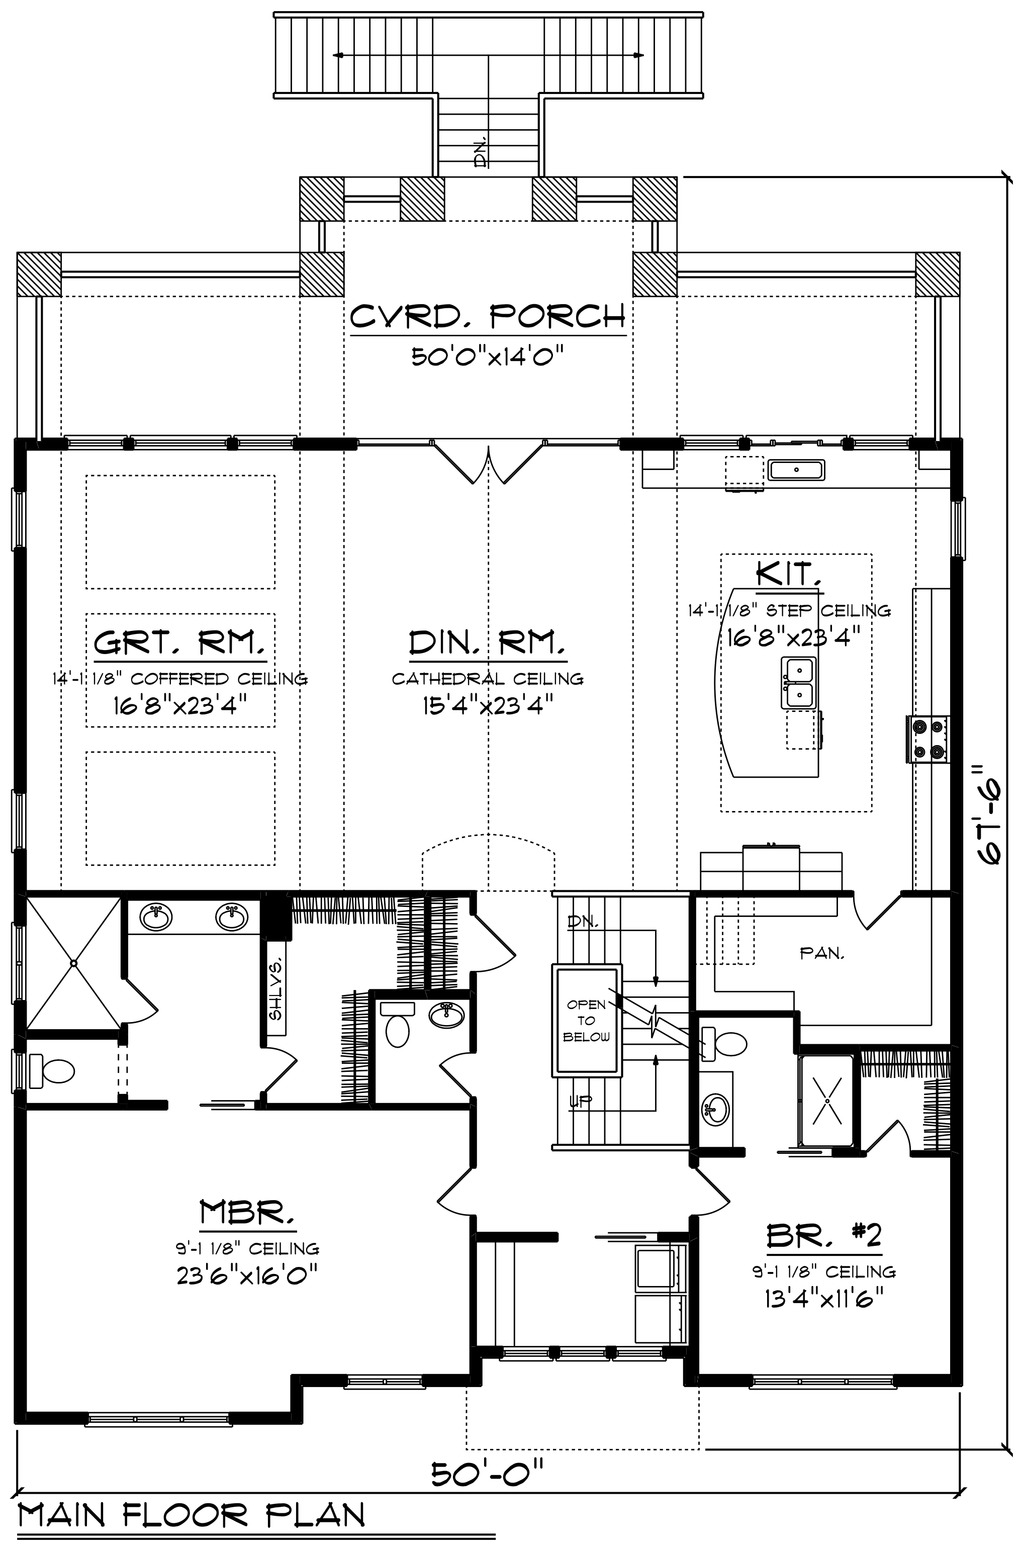door: (437, 429, 542, 490), (113, 973, 170, 1034), (472, 913, 521, 980), (681, 1157, 731, 1221), (849, 882, 904, 932), (434, 1157, 475, 1221), (437, 1047, 486, 1098), (263, 1041, 303, 1100), (865, 1116, 911, 1156)
kitchen_bar: (711, 579, 840, 783)
large_sink: (34, 1047, 93, 1098), (696, 1018, 755, 1065)
small_sink: (122, 896, 265, 942), (699, 1068, 745, 1149)
stairs: (267, 1, 711, 182), (542, 893, 695, 1152)
windows: (62, 429, 301, 457), (742, 1368, 895, 1393), (85, 1406, 237, 1429), (501, 1344, 667, 1365), (339, 1370, 421, 1396), (9, 921, 31, 1005), (9, 480, 32, 559), (9, 785, 31, 860)
